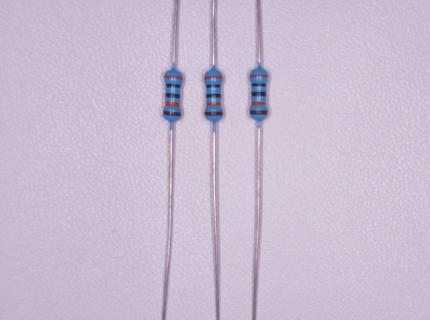Black band: (166, 83, 181, 88), (166, 93, 181, 98), (206, 84, 221, 88), (206, 94, 221, 98), (252, 83, 266, 87), (252, 92, 266, 96)
Brown band: (163, 110, 182, 116), (249, 110, 268, 115), (204, 112, 222, 116)
Orange band: (204, 75, 223, 80), (165, 101, 180, 107), (164, 75, 183, 79), (250, 74, 268, 78), (251, 101, 266, 105), (206, 102, 220, 106)
